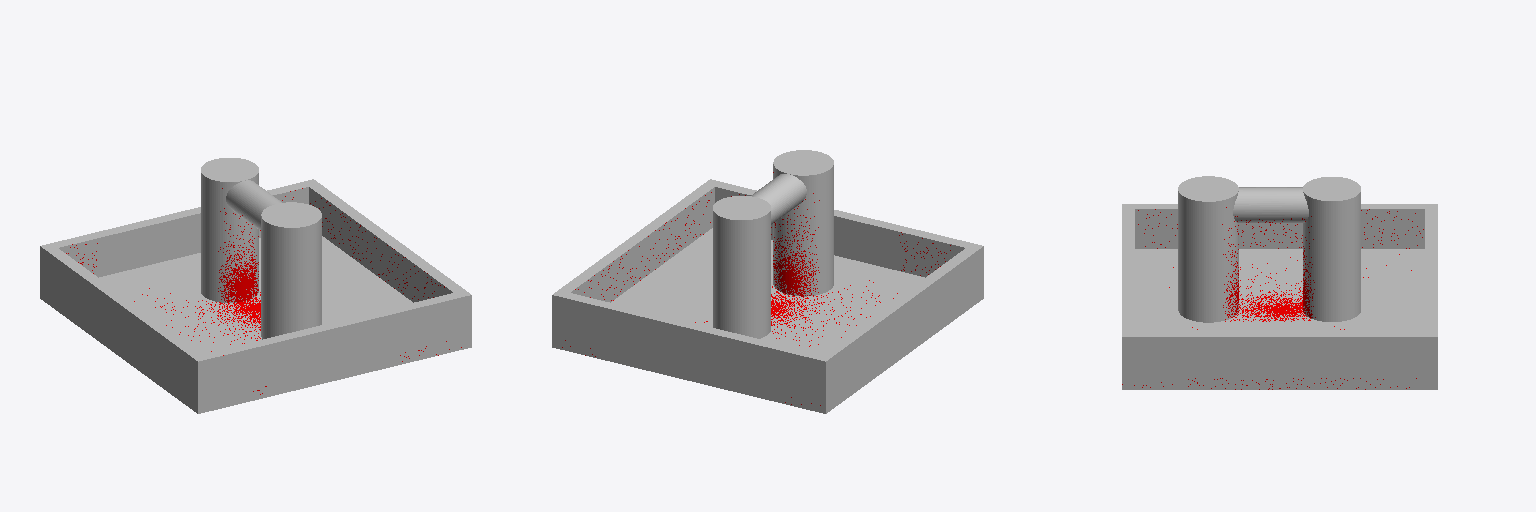
The picture shows the model from 3 angles: view 1: azimuth 30°, elevation 25°; view 2: azimuth 150°, elevation 25°; view 3: azimuth 270°, elevation 25°; orthographic projection.
Visible parts, largest first — view 1: Body2; view 2: Body2; view 3: Body2.
Part boxes in pixels (x1,y1,x2,y2): Body2: (40, 158, 471, 413); Body2: (552, 150, 983, 413); Body2: (1122, 176, 1437, 389).
Bounding box in the file's own units: 109 × 51 × 109.
1 materials, 1 textured.